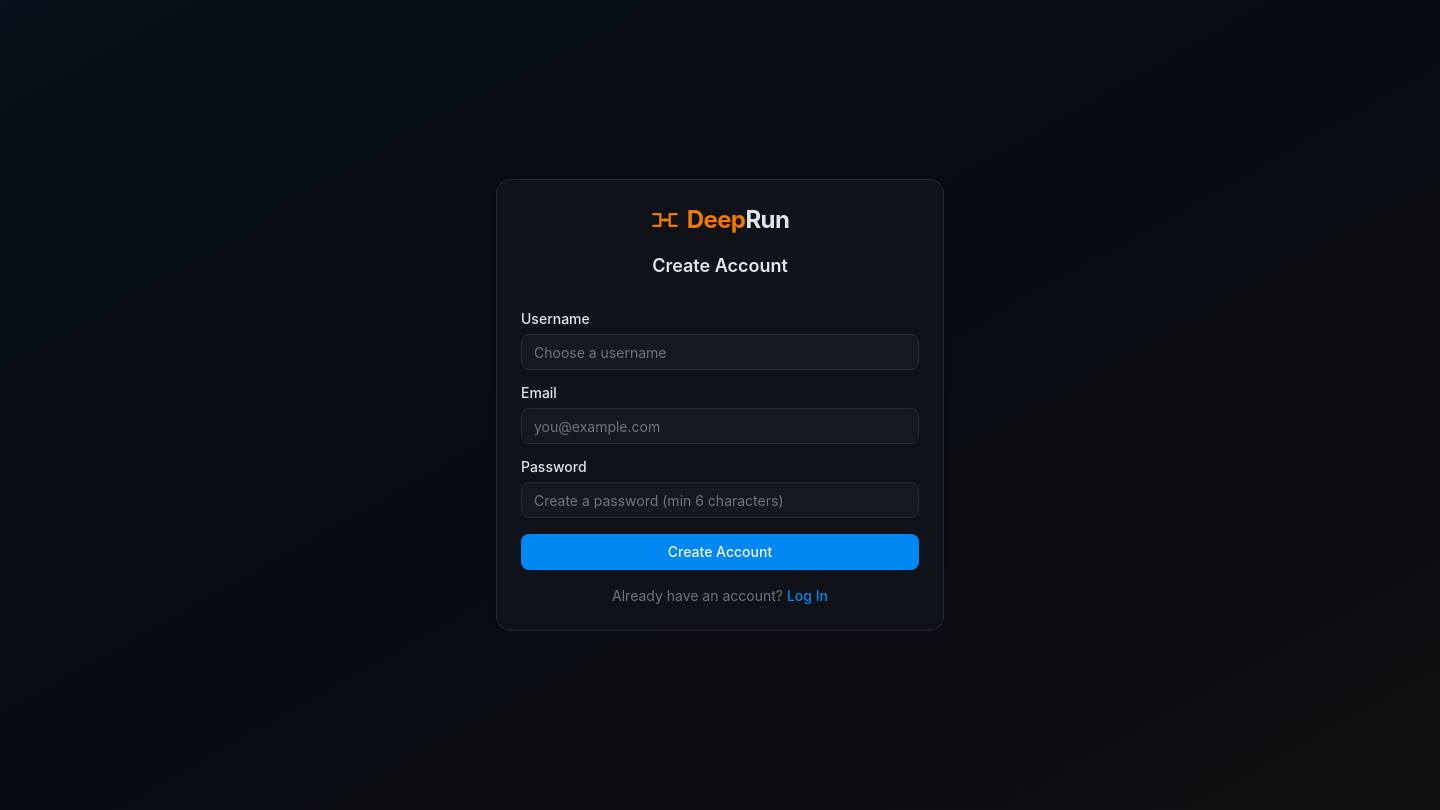
Test: Register page › shows server error when registration fails (e.g. duplicate email)
This screenshot has width=1440, height=810.
In the field labelled "Username": {"x": 720, "y": 352} [521,334,919,370], type "user"
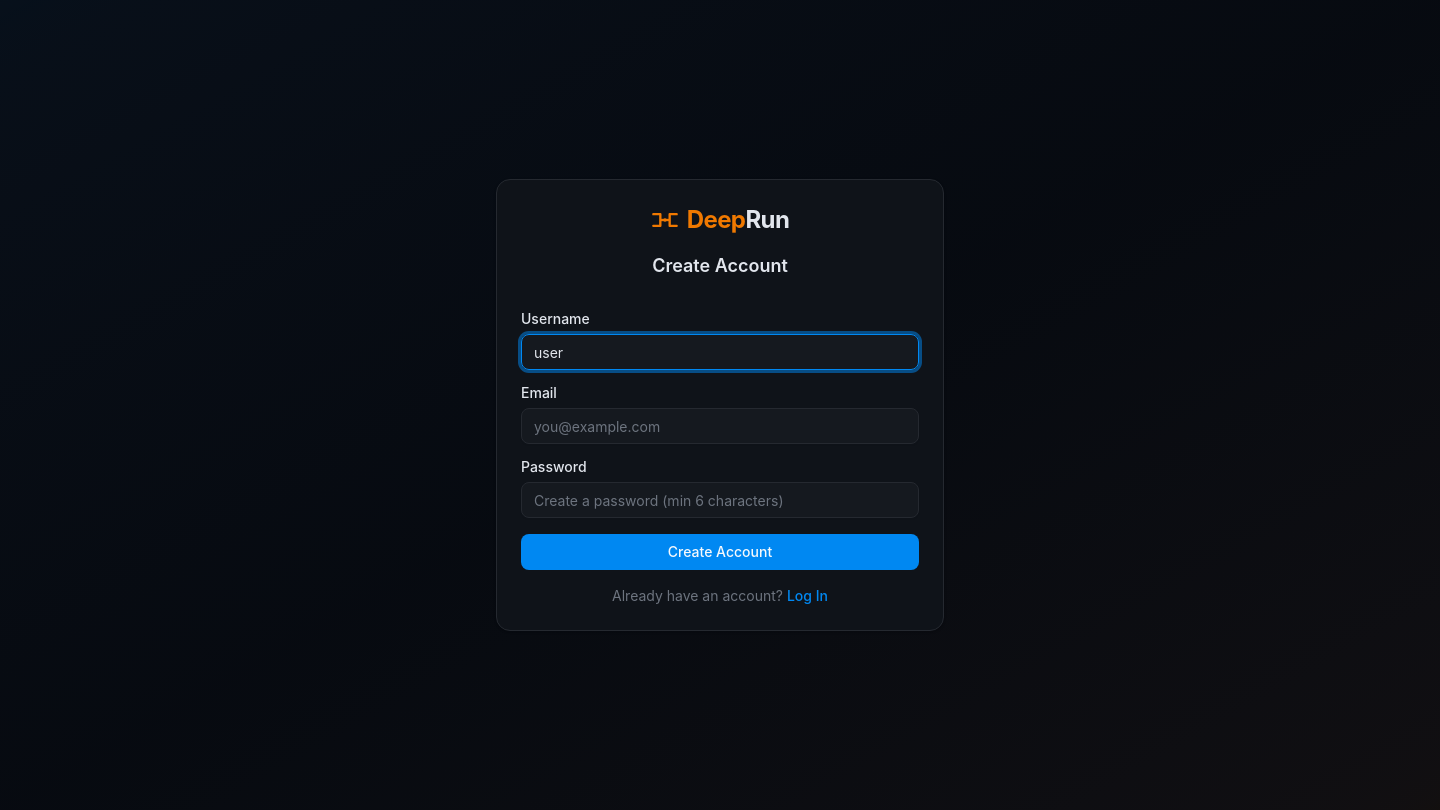
In the field labelled "Email": {"x": 720, "y": 426} [521,408,919,444], type "dup@example.com"
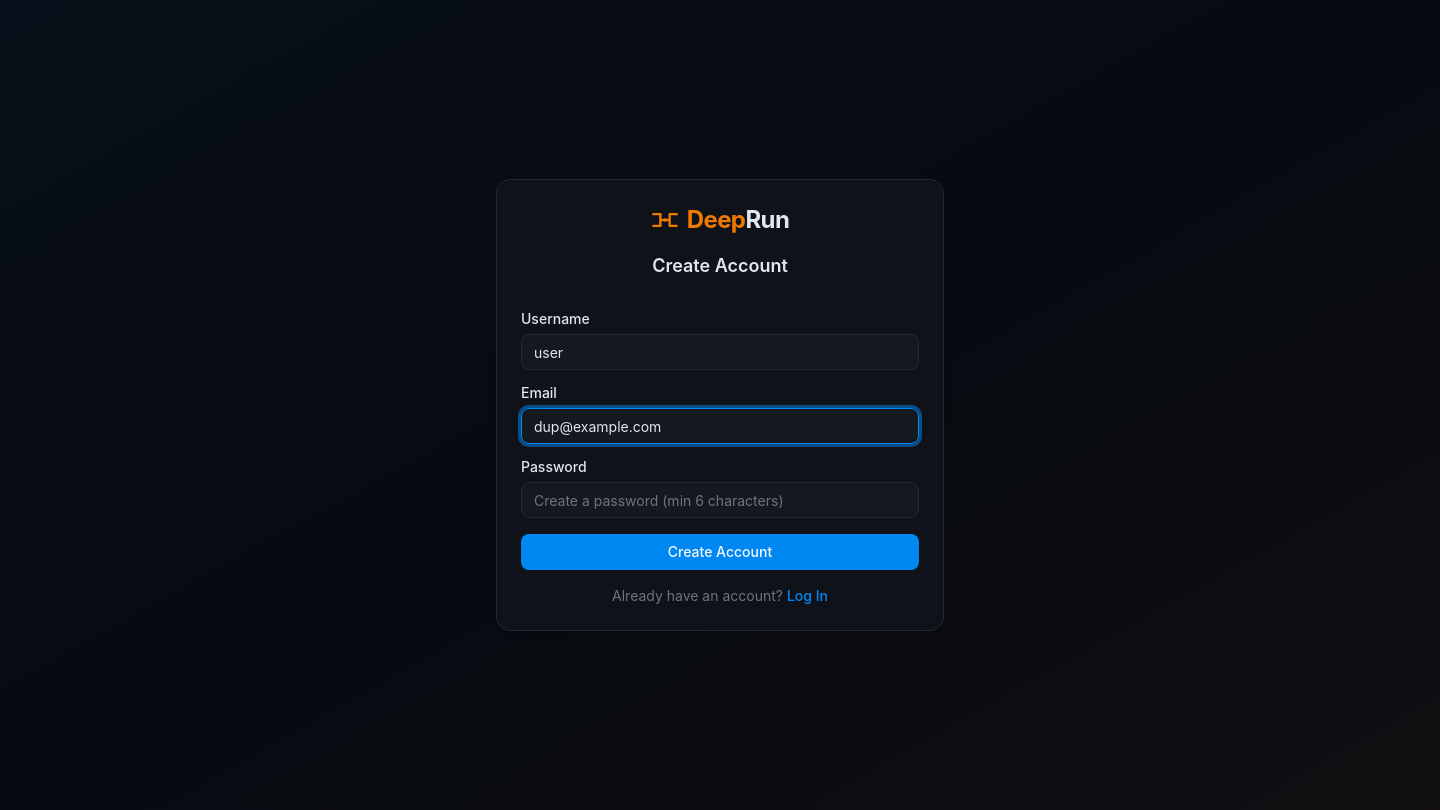
In the password field labelled "Password": {"x": 720, "y": 500} [521,482,919,518], type "Password123!"
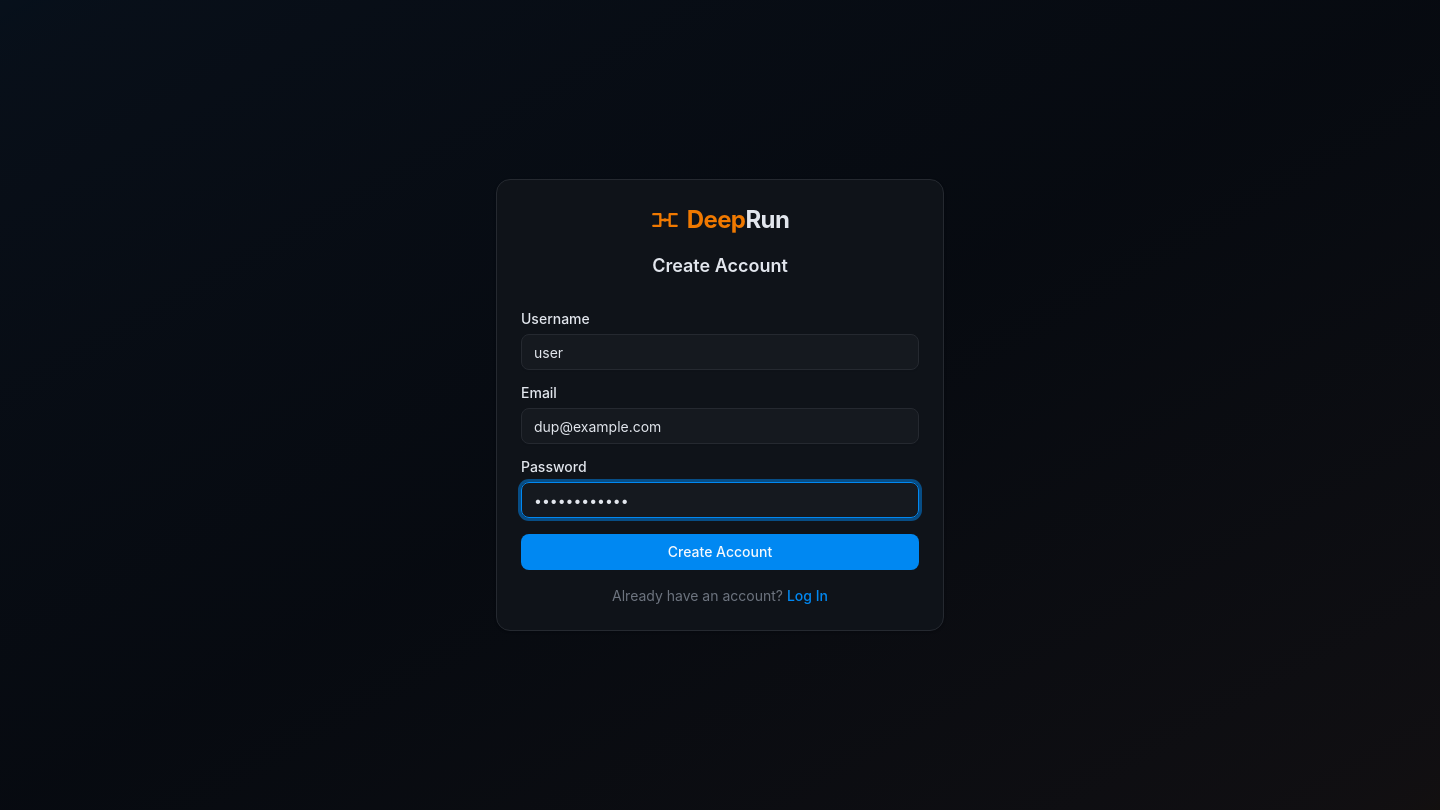
Click the button "Create Account": {"x": 720, "y": 552} [521,534,919,570]
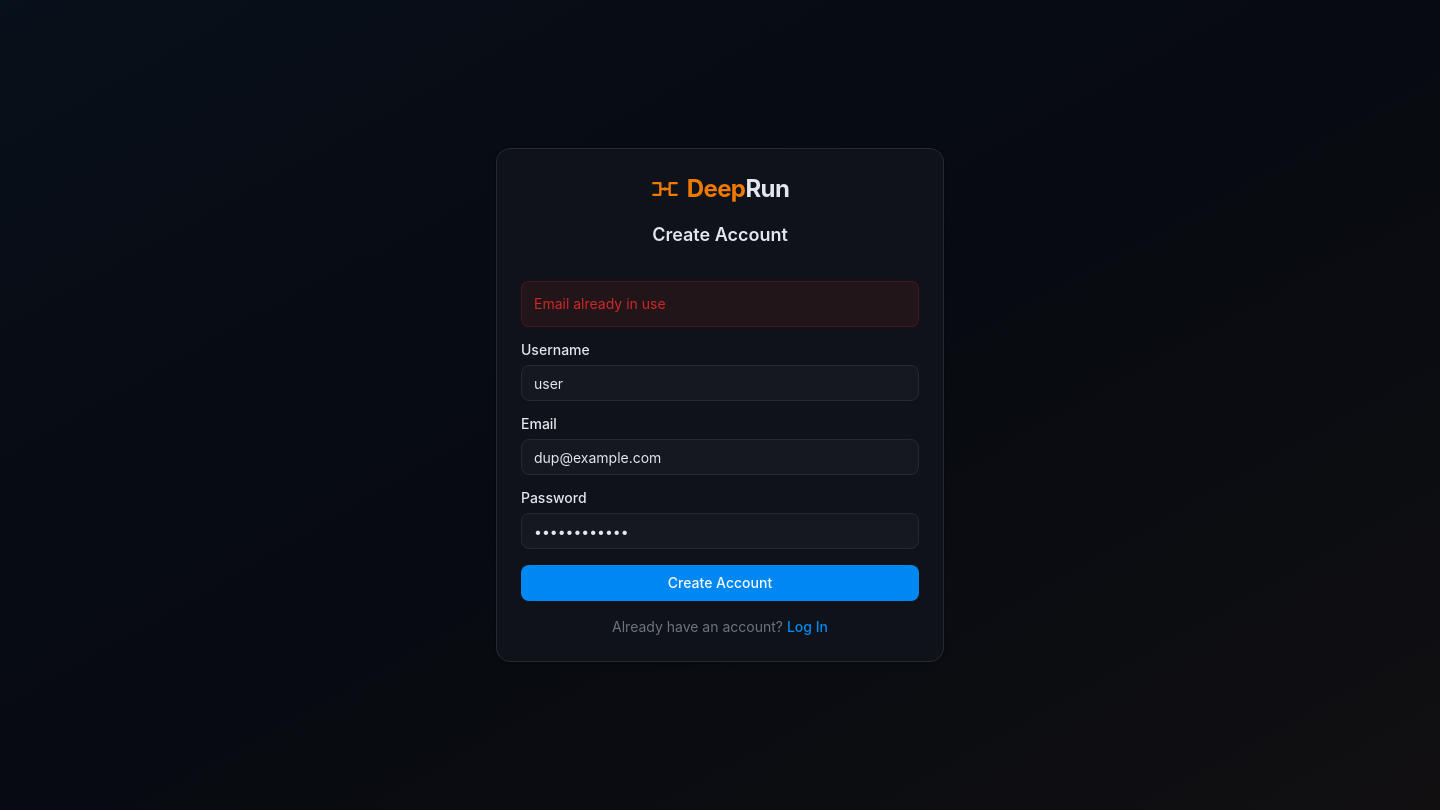
expect the message "Email already in use" is shown: met, box [521,281,919,327]
